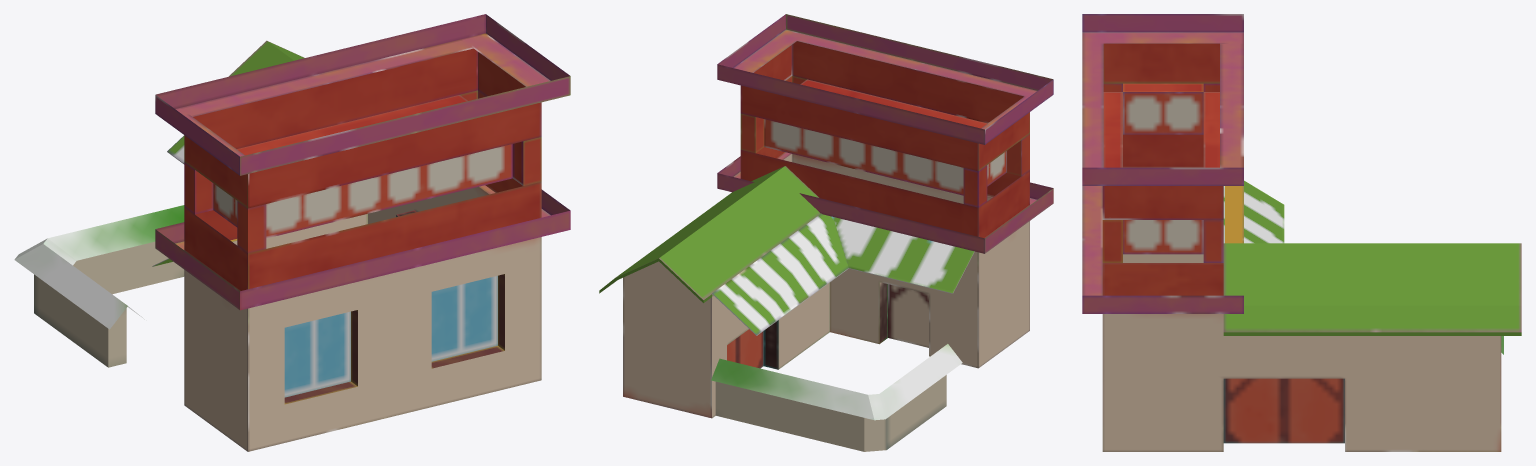
The model's file is m_bat06.fbx.
The picture shows the model from 3 angles, left to right: view 1: azimuth 30°, elevation 25°; view 2: azimuth 150°, elevation 25°; view 3: azimuth 270°, elevation 25°; orthographic projection. The views are drawn at different scales.
Parts seen in each view (by area): view 1: Cube.013; view 2: Cube.013; view 3: Cube.013.
Boxes of the visible parts, left/top/right/bottom form: Cube.013: left=14, top=14, right=570, bottom=451; Cube.013: left=599, top=14, right=1053, bottom=451; Cube.013: left=1082, top=14, right=1521, bottom=451.
Bounding box in the file's own units: 1850 × 1600 × 2174.
1 material, 1 textured.
